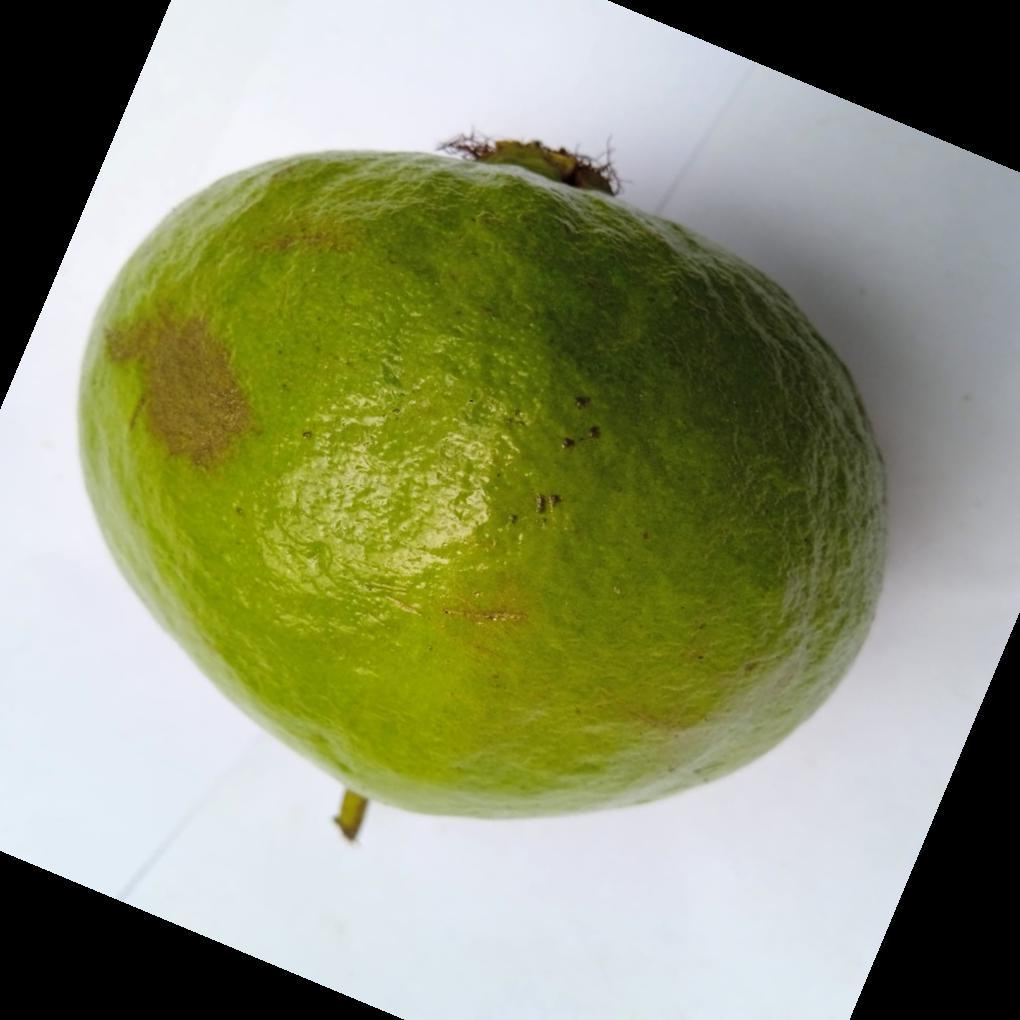FreshGuava: (75, 140, 891, 826)
